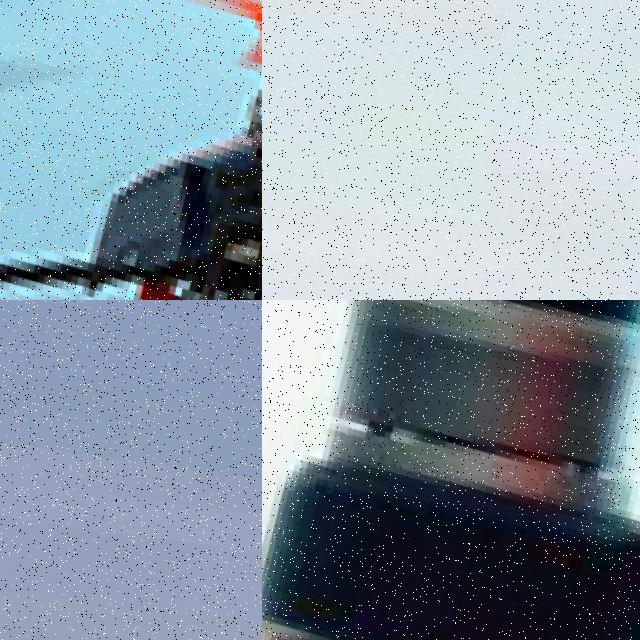drone: (262, 300, 640, 640), (0, 0, 262, 300)
